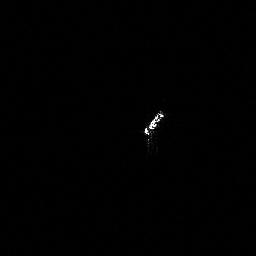ship: (144, 110, 164, 153)
